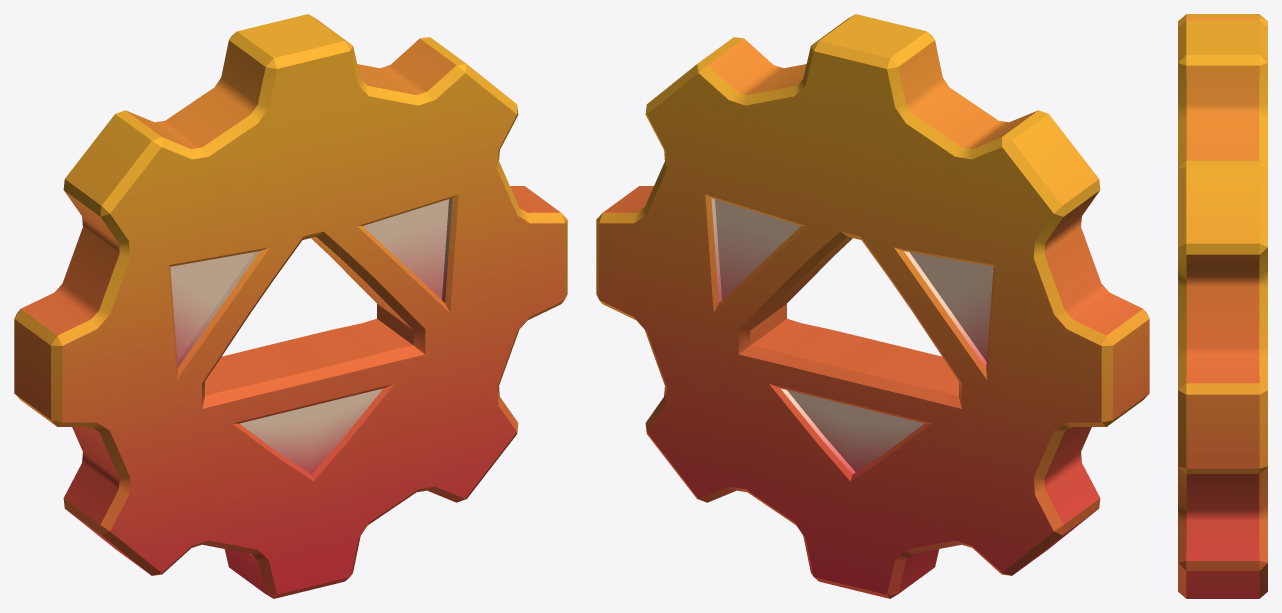
The model's file is cog.fbx.
3 renders of one model, left to right at view 1: azimuth 30°, elevation 25°; view 2: azimuth 150°, elevation 25°; view 3: azimuth 270°, elevation 25°, orthographic.
Parts seen in each view (by area): view 1: gear_base1; view 2: gear_base1; view 3: gear_base1.
Boxes of the visible parts, bbox=[...] form: gear_base1: bbox=[14, 14, 567, 598]; gear_base1: bbox=[596, 14, 1149, 598]; gear_base1: bbox=[1178, 14, 1267, 598].
Size of the model in its own units: 0.9361 by 0.9361 by 0.1419.
